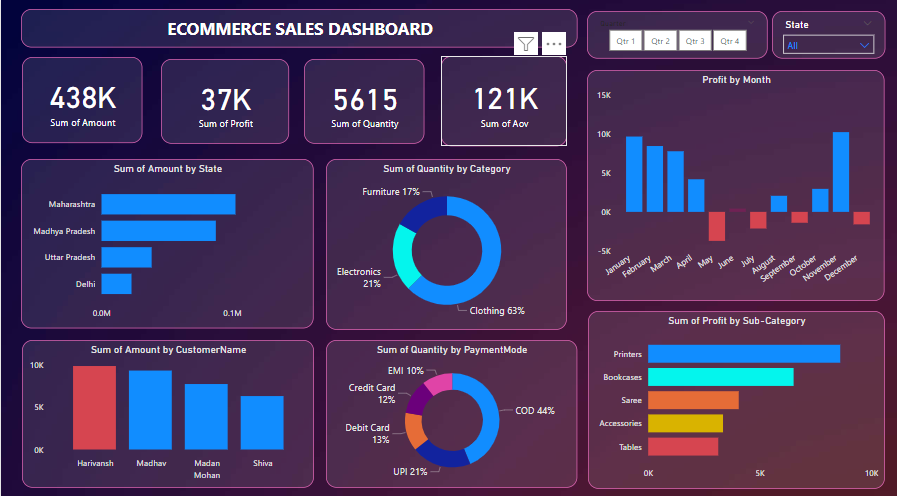

Layout of this report page (visuals, bound fields, positions):
{"tool":"powerbi","page":{"name":"E-Commerce Sales Data Dashboard","canvas":[1280,720],"ordinal":0},"visuals":[{"type":"textbox","box":[28.3,15.6,795.1,55.3],"z":0},{"type":"columnChart","title":"Profit by Month","fields":{"Category":["Orders.Order Date.Variation.Date Hierarchy.Month"],"Y":["Sum(Details.Profit)"]},"box":[838.2,85,424.8,330.4],"z":1000},{"type":"barChart","fields":{"Category":["Details.Sub-Category"],"Y":["Sum(Details.Profit)"]},"box":[839.1,436.5,423.8,253.7],"z":2000},{"type":"donutChart","fields":{"Category":["Details.Category"],"Y":["Sum(Details.Quantity)"]},"box":[464.4,230.3,343.6,243.5],"z":3000},{"type":"donutChart","fields":{"Y":["Sum(Details.Quantity)"],"Category":["Details.PaymentMode"]},"box":[464.4,489,358.7,211.4],"z":4000},{"type":"card","fields":{"Values":["Sum(Details.Amount)"]},"box":[30.2,85,171.8,122.7],"z":5000},{"type":"card","fields":{"Values":["Sum(Details.Quantity)"]},"box":[432.3,86.8,171.8,120.8],"z":6000},{"type":"card","fields":{"Values":["Sum(Details.Profit)"]},"box":[228.4,86.8,183.1,120.8],"z":7000},{"type":"card","fields":{"Values":["Sum(Details.Aov)"]},"box":[627.9,82.2,180,129],"z":8000},{"type":"barChart","fields":{"Category":["Orders.State"],"Y":["Sum(Details.Amount)"]},"box":[28.3,229.6,418.1,242.4],"z":9000},{"type":"columnChart","fields":{"Category":["Orders.CustomerName"],"Y":["Sum(Details.Amount)"]},"box":[30.2,489,417.2,211.4],"z":10000},{"type":"slicer","fields":{"Values":["Orders.Order Date.Variation.Date Hierarchy.Quarter"]},"box":[838.2,9.4,256.8,68],"z":11000},{"type":"slicer","fields":{"Values":["Orders.State"]},"box":[1112,9.4,168,68],"z":12000}]}

Visuals, with their boxes in screenshot pixels (x1, y1, x2, y2), scaled from the page's 1280x720 canvas onto the 897x496 screenshot:
textbox: BBox(20, 11, 577, 49)
"Profit by Month" columnChart: BBox(587, 59, 885, 286)
barChart - Details.Sub-Category x Sum(Details.Profit): BBox(588, 301, 885, 475)
donutChart - Details.Category x Sum(Details.Quantity): BBox(325, 159, 566, 326)
donutChart - Sum(Details.Quantity) x Details.PaymentMode: BBox(325, 337, 577, 482)
card - Sum(Details.Amount): BBox(21, 59, 142, 143)
card - Sum(Details.Quantity): BBox(303, 60, 423, 143)
card - Sum(Details.Profit): BBox(160, 60, 288, 143)
card - Sum(Details.Aov): BBox(440, 57, 566, 145)
barChart - Orders.State x Sum(Details.Amount): BBox(20, 158, 313, 325)
columnChart - Orders.CustomerName x Sum(Details.Amount): BBox(21, 337, 314, 482)
slicer - Orders.Order Date.Variation.Date Hierarchy.Quarter: BBox(587, 6, 767, 53)
slicer - Orders.State: BBox(779, 6, 896, 53)
